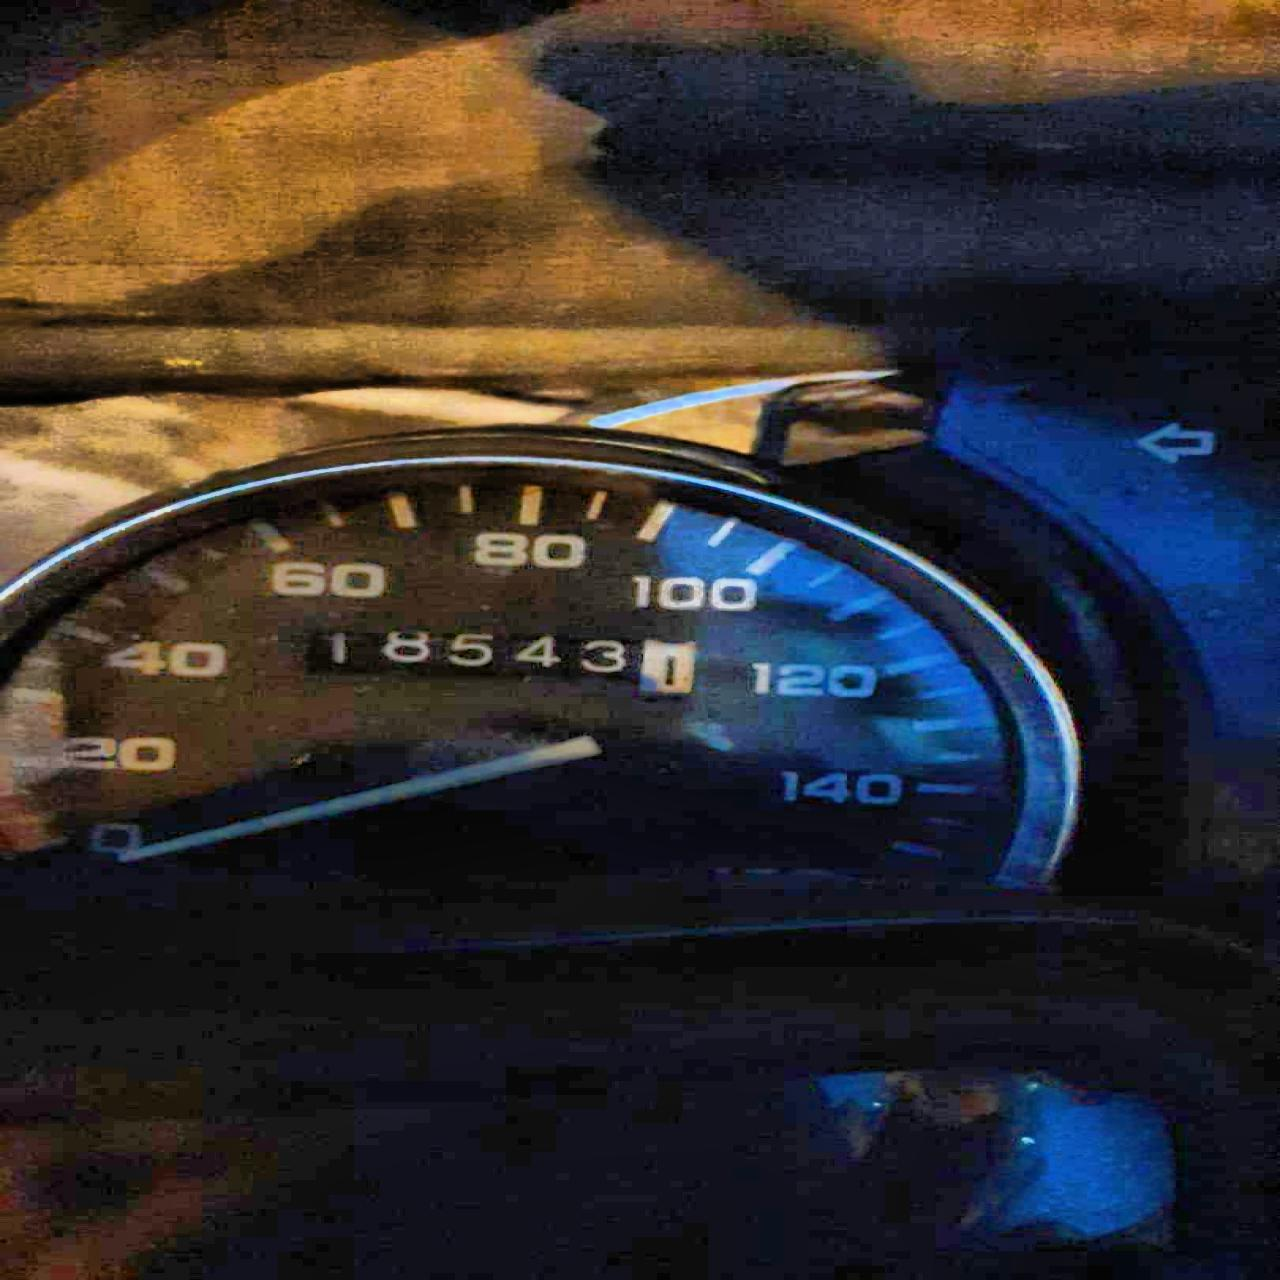1: (320, 625, 353, 672), (649, 649, 688, 686)
3: (577, 636, 631, 678)
4: (512, 632, 563, 666)
5: (449, 632, 498, 670)
8: (375, 625, 436, 667)
odometer: (290, 619, 704, 700)
